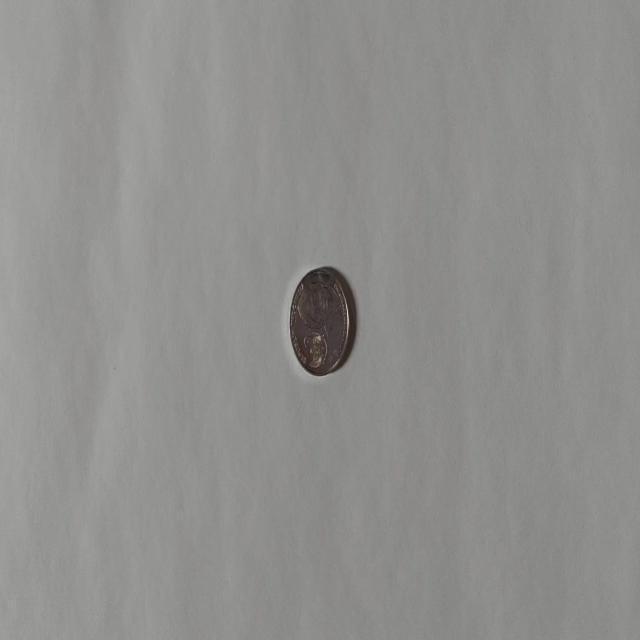dua ratus rupiah: (288, 265, 350, 377)
